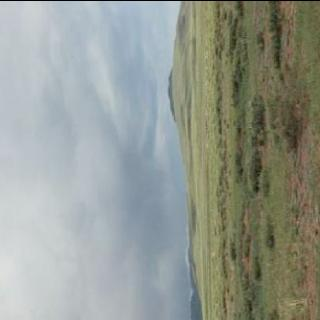Nimbostratus: (0, 0, 186, 320)
